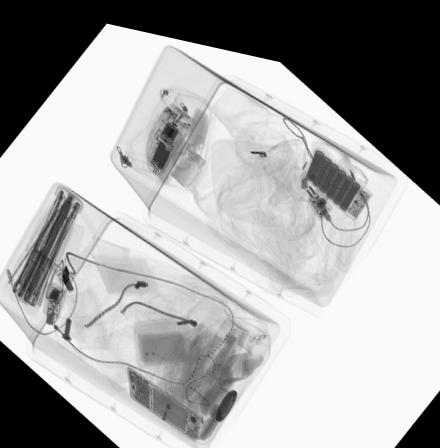Powerbank: (301, 132, 374, 205)
